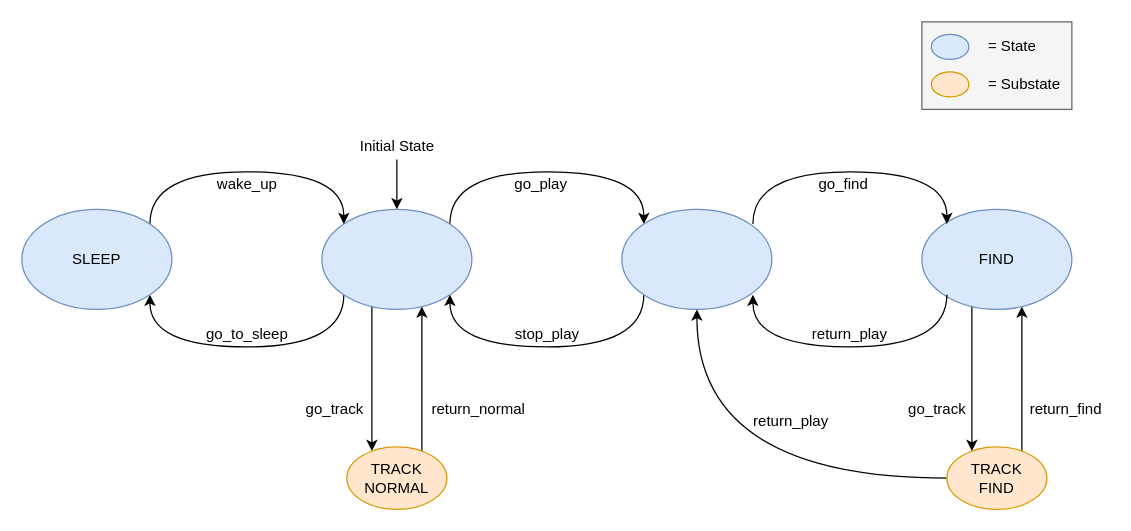
Some shapes in this 1131 by 531 pixel diagram are drawn without their labels. The box of each missing label's shape, as (x1, y1, x2, y2) in pixels:
NORMAL: (321, 208, 472, 309)
PLAY: (621, 208, 772, 309)
